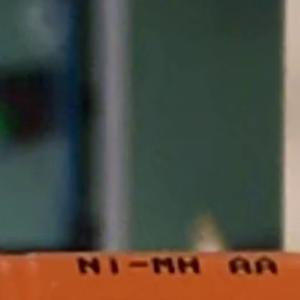NI-MH: (68, 247, 209, 283)
